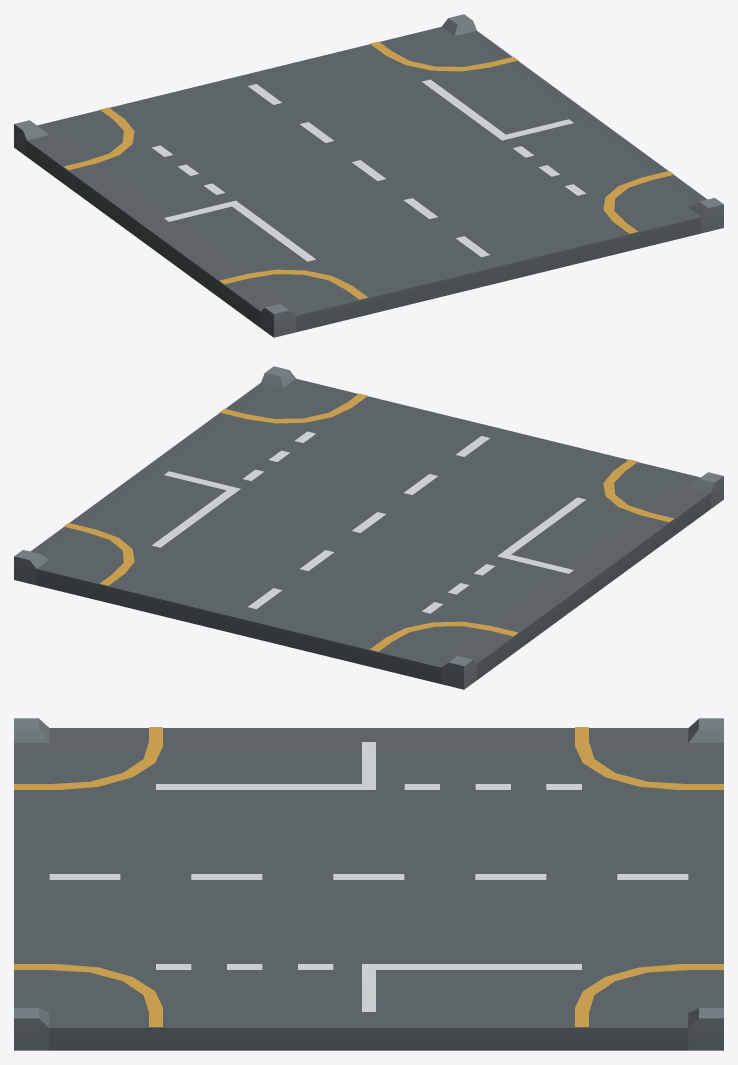
Rendered from road-junction.glb.
The picture shows the model from 3 angles, top to bottom: view 1: azimuth 30°, elevation 25°; view 2: azimuth 150°, elevation 25°; view 3: azimuth 270°, elevation 25°; orthographic projection. The views are drawn at different scales.
Parts seen in each view (by area): view 1: road_junction; view 2: road_junction; view 3: road_junction.
Boxes of the visible parts, <box> form: road_junction: <box>14,14,723,337</box>; road_junction: <box>14,366,723,689</box>; road_junction: <box>14,718,723,1050</box>.
Size of the model in its own units: 2 by 0.1 by 2.
Materials: 1 (1 with a texture image).
